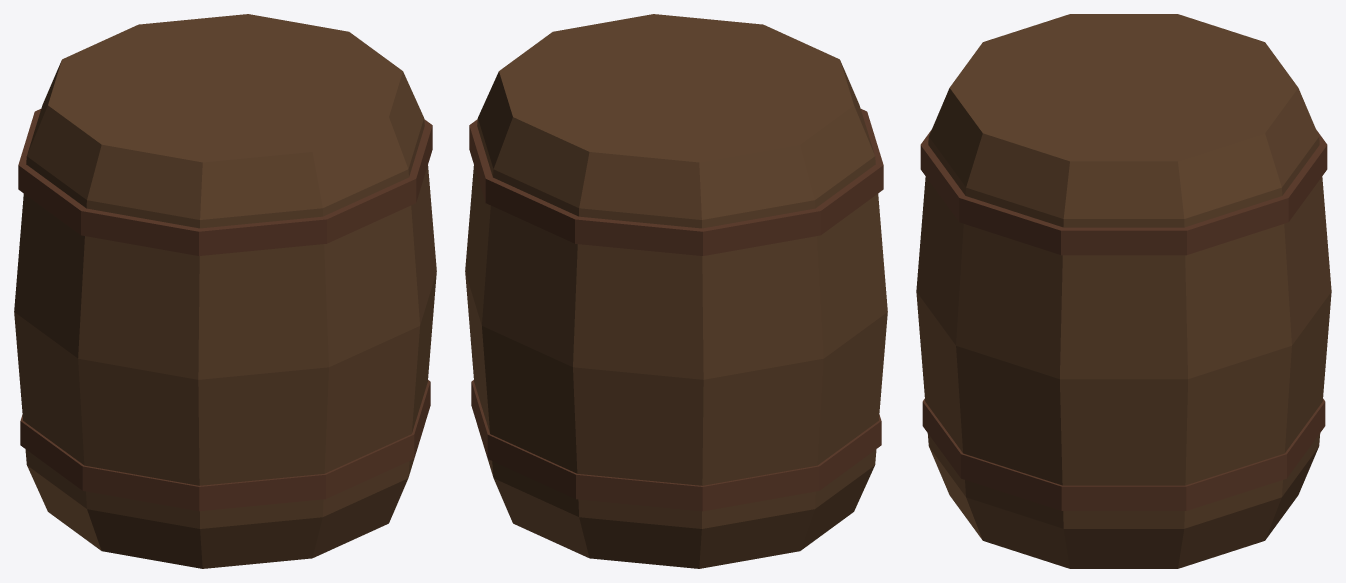
The model's file is SM_Wood_Barrel_B_Static.glb.
The picture shows the model from 3 angles, left to right: view 1: azimuth 30°, elevation 25°; view 2: azimuth 150°, elevation 25°; view 3: azimuth 270°, elevation 25°; orthographic projection.
Parts seen in each view (by area): view 1: SM_Wood_Barrel_B_Static; view 2: SM_Wood_Barrel_B_Static; view 3: SM_Wood_Barrel_B_Static.
Boxes of the visible parts, bbox=[...] form: SM_Wood_Barrel_B_Static: bbox=[14, 14, 436, 568]; SM_Wood_Barrel_B_Static: bbox=[465, 14, 887, 568]; SM_Wood_Barrel_B_Static: bbox=[916, 14, 1331, 568].
Bounding box in the file's own units: 0.35 × 0.379 × 0.35.
Materials: 1 (1 with a texture image).
